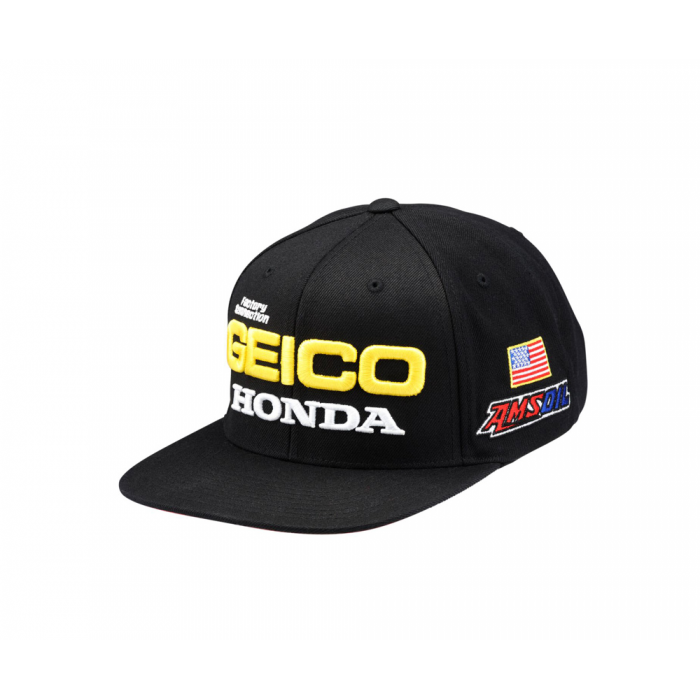Geico: (223, 310, 437, 406)
